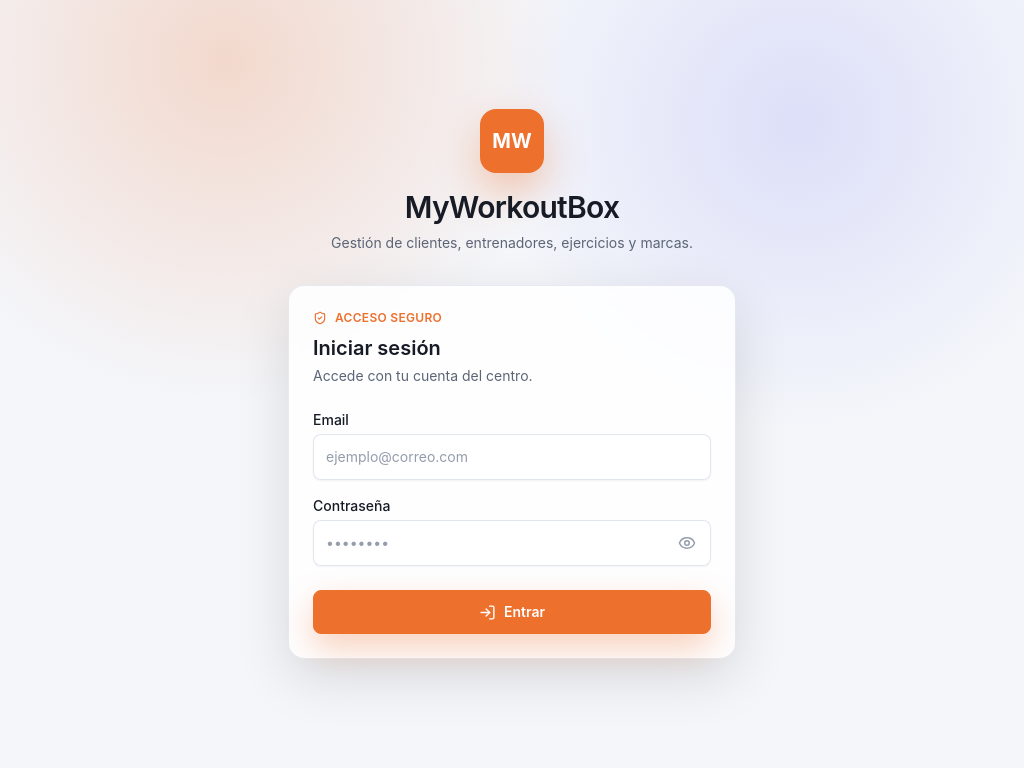
it: LoginPage › toggles password visibility without changing the typed value
Type "Admin1234!" into the password field labelled "Contraseña".
click(512, 543); type("Admin1234!")  # box x1=313 y1=520 x2=711 y2=566
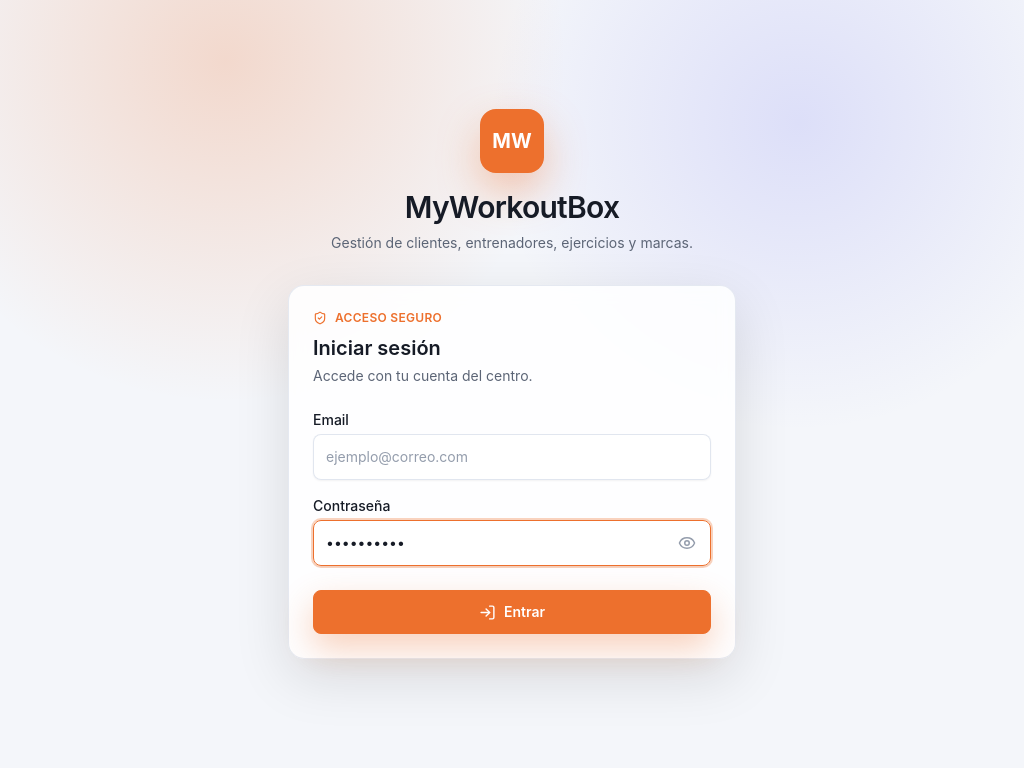
Click the button named "Mostrar contraseña".
click(687, 543)  # box x1=663 y1=520 x2=711 y2=566
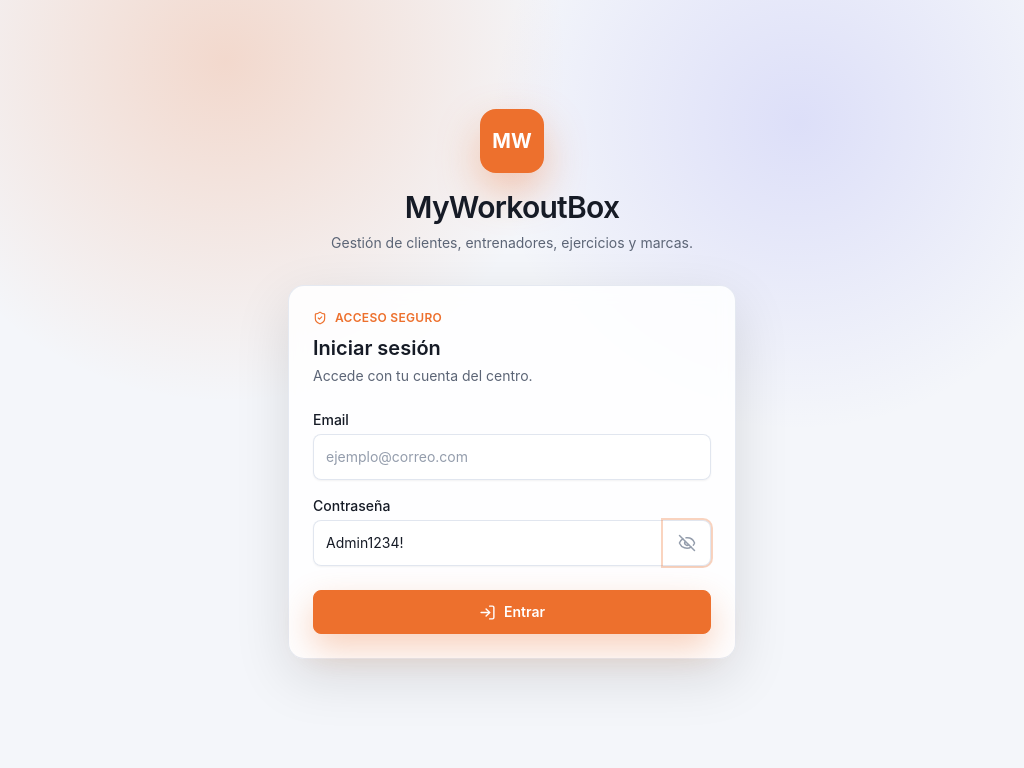
Check: the field labelled "Contraseña" shows its text, box x1=313 y1=520 x2=711 y2=566
